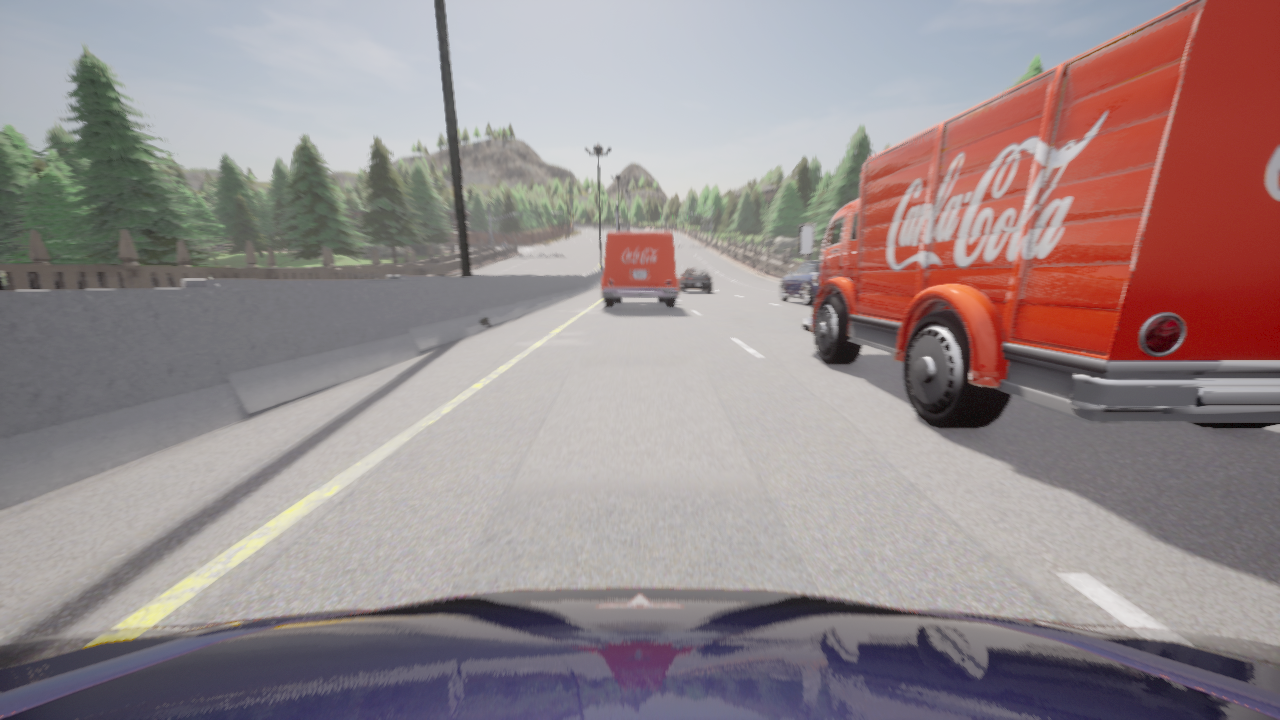cyclist: (798, 0, 1279, 429), (0, 588, 1279, 719), (601, 232, 678, 307), (779, 260, 820, 306), (679, 269, 711, 292)
